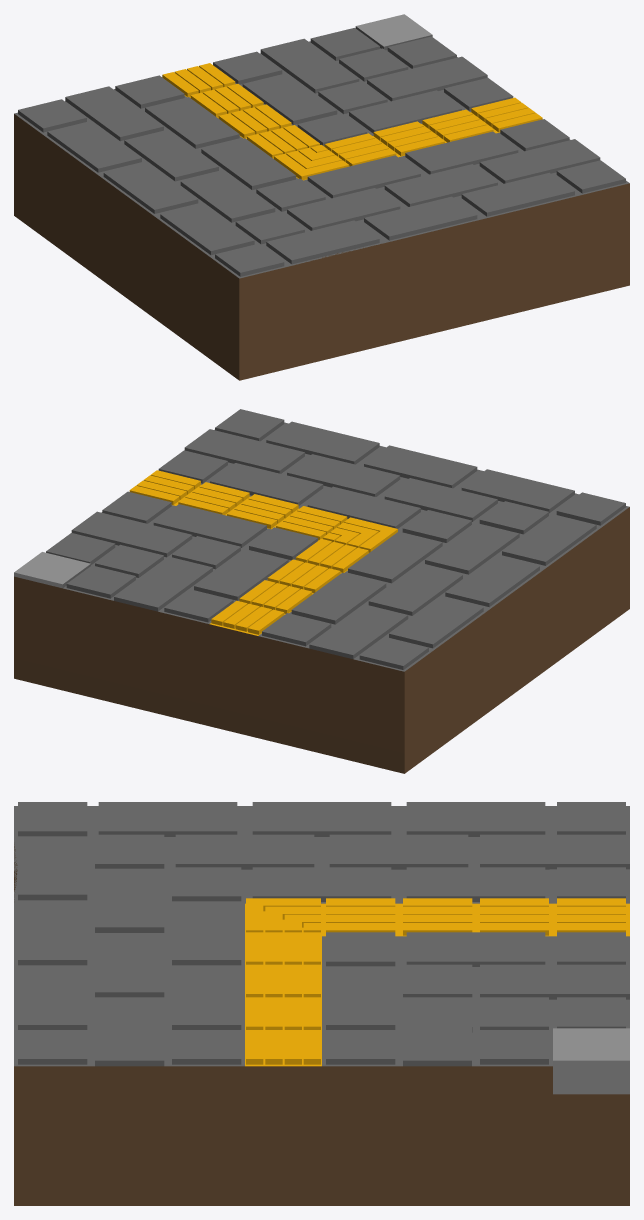
The model's file is trotoar_left_corner.fbx.
3 renders of one model, top to bottom at view 1: azimuth 30°, elevation 25°; view 2: azimuth 150°, elevation 25°; view 3: azimuth 270°, elevation 25°, orthographic. The views are drawn at different scales.
Parts seen in each view (by area): view 1: Cube.008; view 2: Cube.008; view 3: Cube.008.
Boxes of the visible parts, <box> form: Cube.008: <box>14,14,629,380</box>; Cube.008: <box>14,409,629,773</box>; Cube.008: <box>14,802,629,1205</box>.
Bounding box in the file's own units: 1000 × 260 × 1000.
